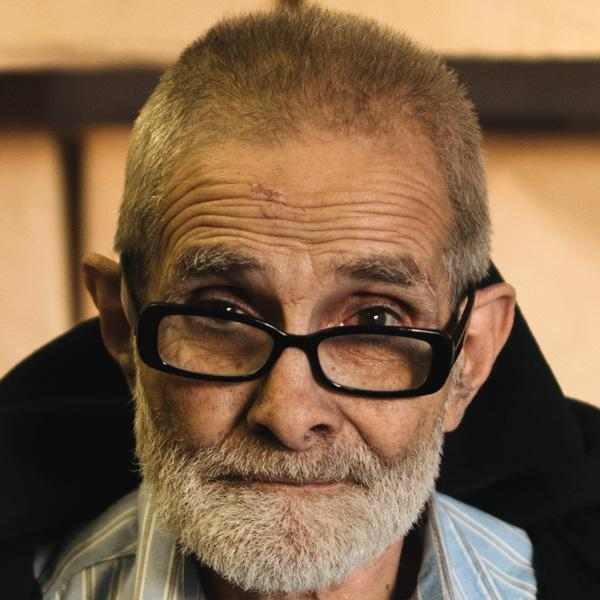Eyes: (177, 276, 265, 336), (326, 288, 416, 346)
